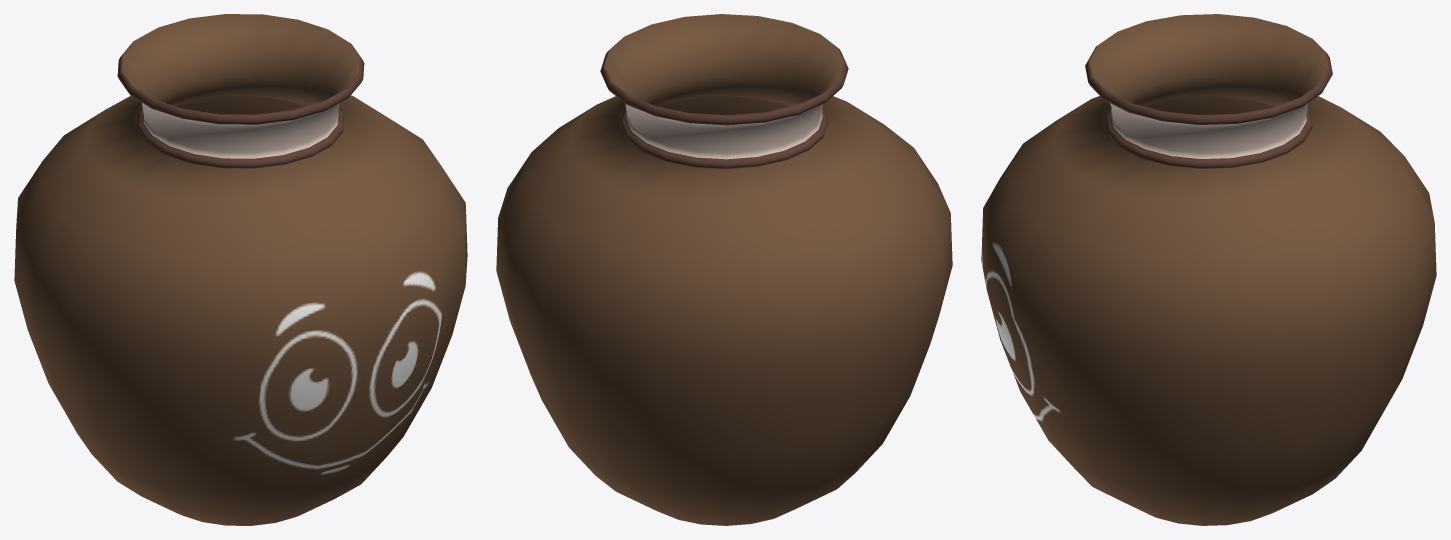
Rendered from Vase_4-2.fbx.
3 renders of one model, left to right at view 1: azimuth 30°, elevation 25°; view 2: azimuth 150°, elevation 25°; view 3: azimuth 270°, elevation 25°, orthographic.
Parts seen in each view (by area): view 1: Vase_4-2; view 2: Vase_4-2; view 3: Vase_4-2.
Boxes of the visible parts, x1,y1,x2,y2 form: Vase_4-2: (14,14,467,525); Vase_4-2: (496,14,952,525); Vase_4-2: (981,14,1436,525).
Bounding box in the file's own units: 86.65 × 89.8 × 86.65.
Materials: 1 (1 with a texture image).
